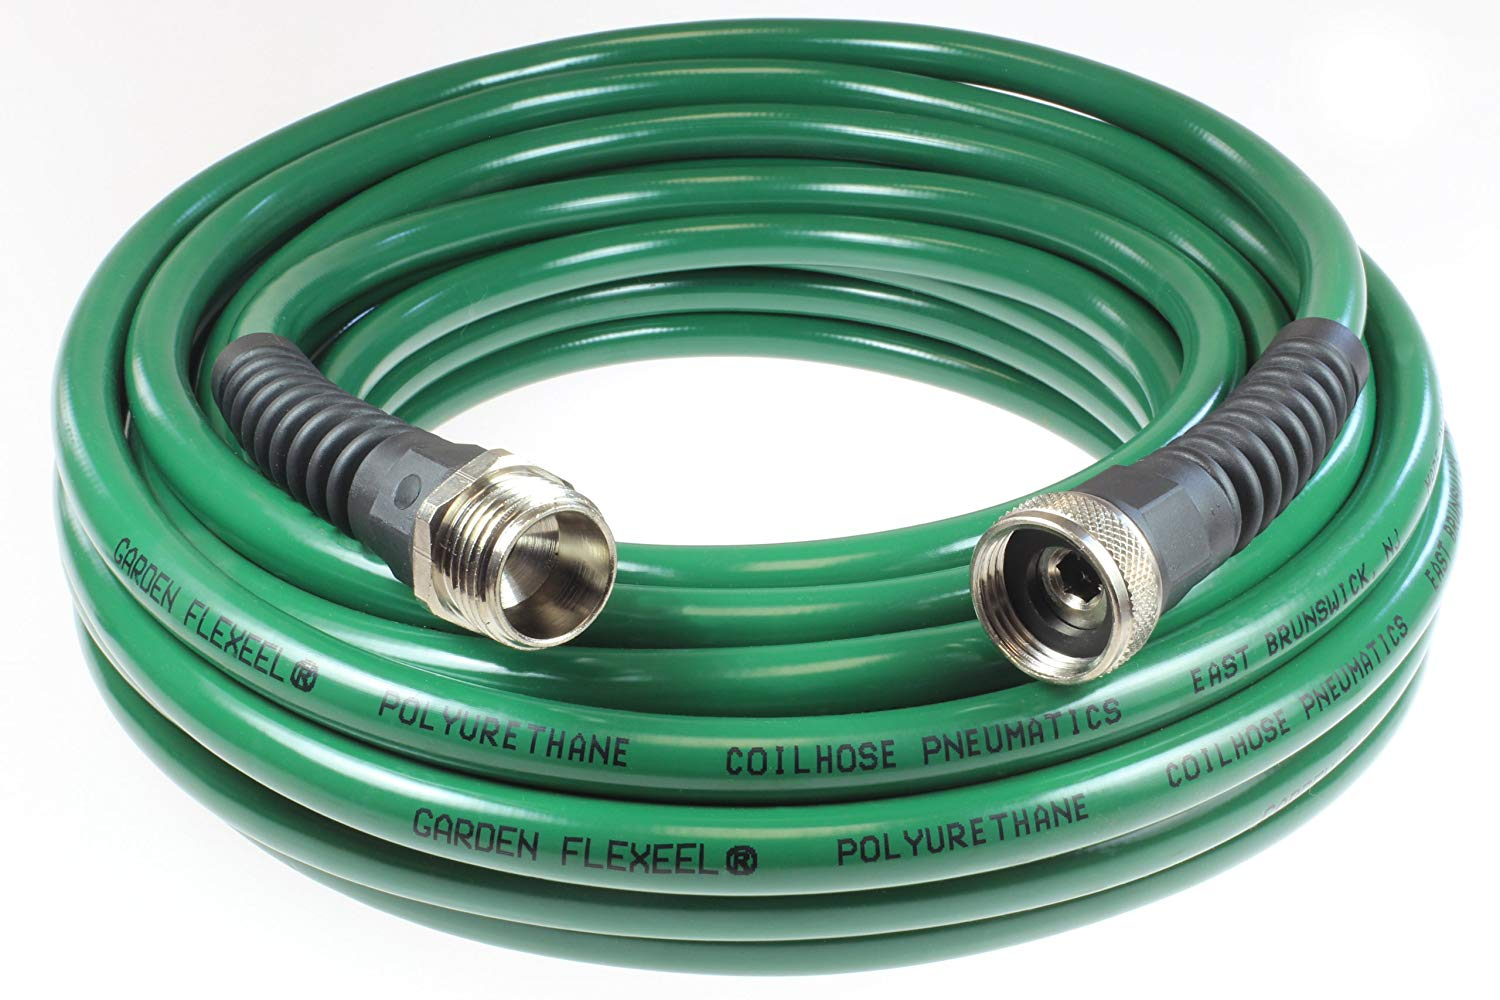Nonrec_Tangler: (2, 4, 1459, 965)
